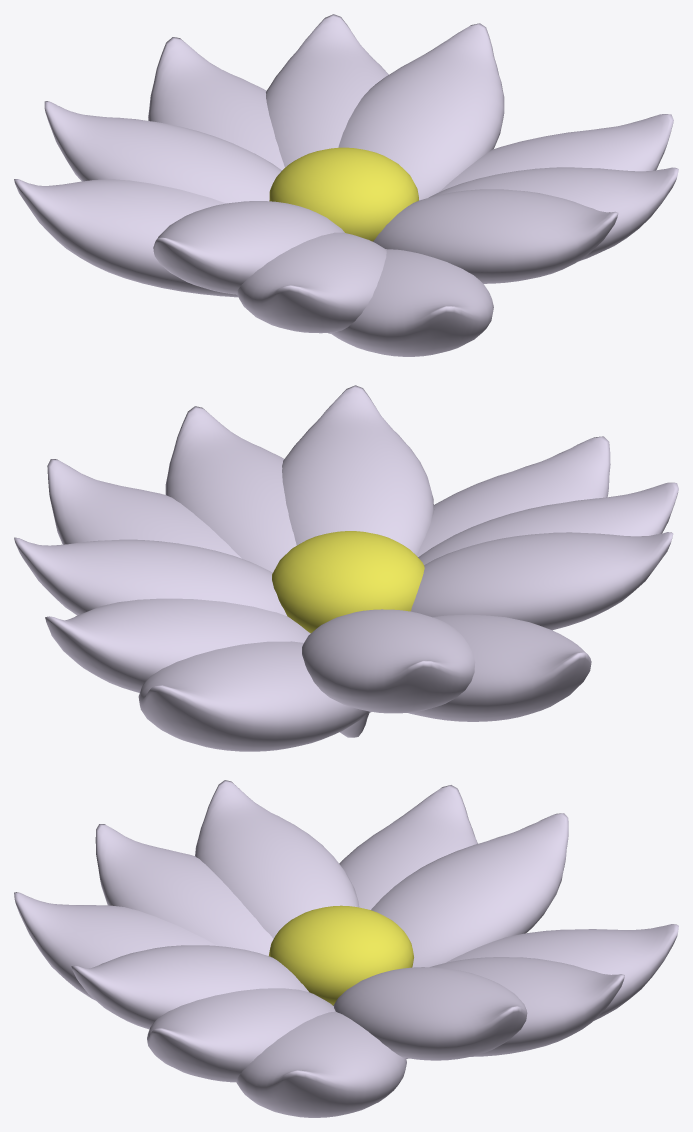
Rendered from Fleur_1.fbx.
3 renders of one model, top to bottom at view 1: azimuth 30°, elevation 25°; view 2: azimuth 150°, elevation 25°; view 3: azimuth 270°, elevation 25°, orthographic. The views are drawn at different scales.
Visible parts, largest first — view 1: Sphere.002, Sphere.003; view 2: Sphere.002, Sphere.003; view 3: Sphere.002, Sphere.003.
Part boxes in pixels (x1,y1,x2,y2): Sphere.002: (14, 14, 678, 356); Sphere.003: (269, 147, 418, 241); Sphere.002: (14, 385, 678, 751); Sphere.003: (272, 531, 424, 633); Sphere.002: (14, 780, 678, 1117); Sphere.003: (269, 905, 413, 1005).
Size of the model in its own units: 118 by 39.24 by 122.
